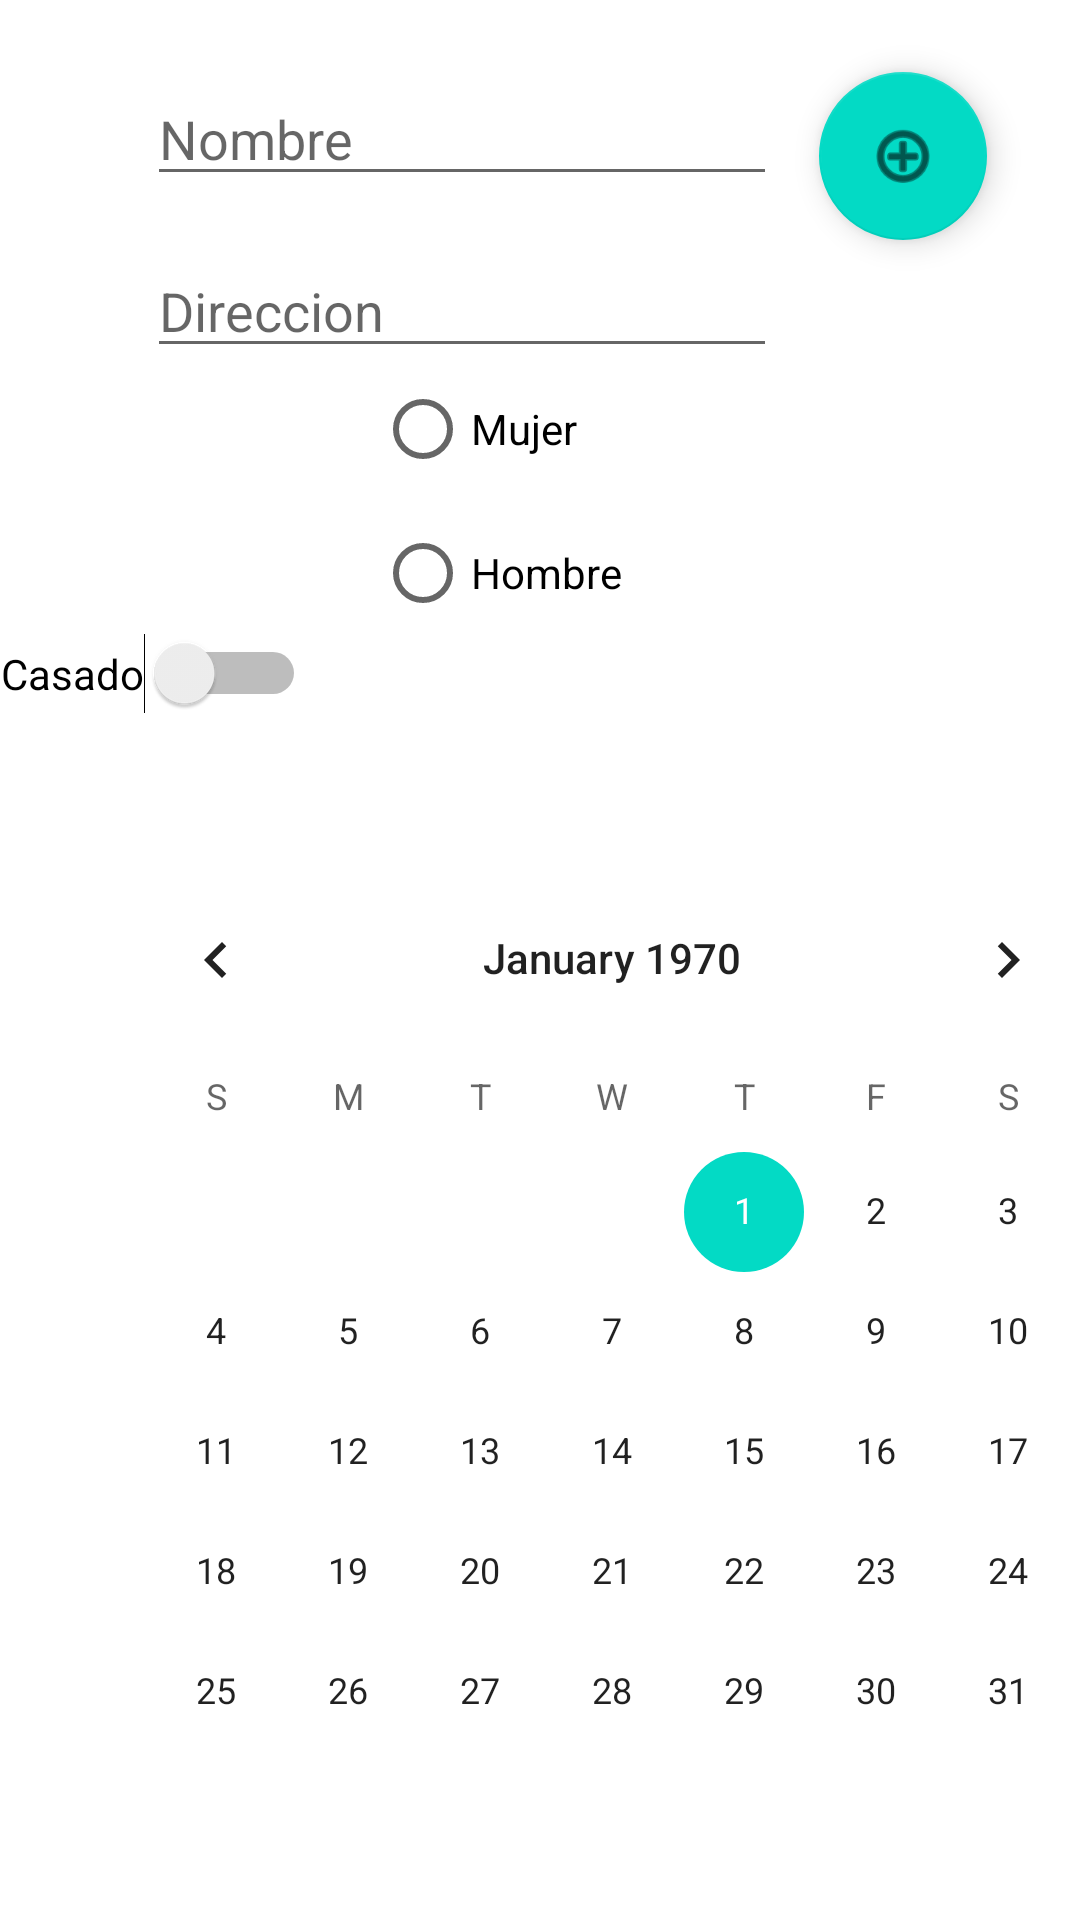

Named icons in this screenshot (1080px x 1920px) and their bounding boxes, (x1, y1, x2, y2):
add: (819, 72, 987, 240)
